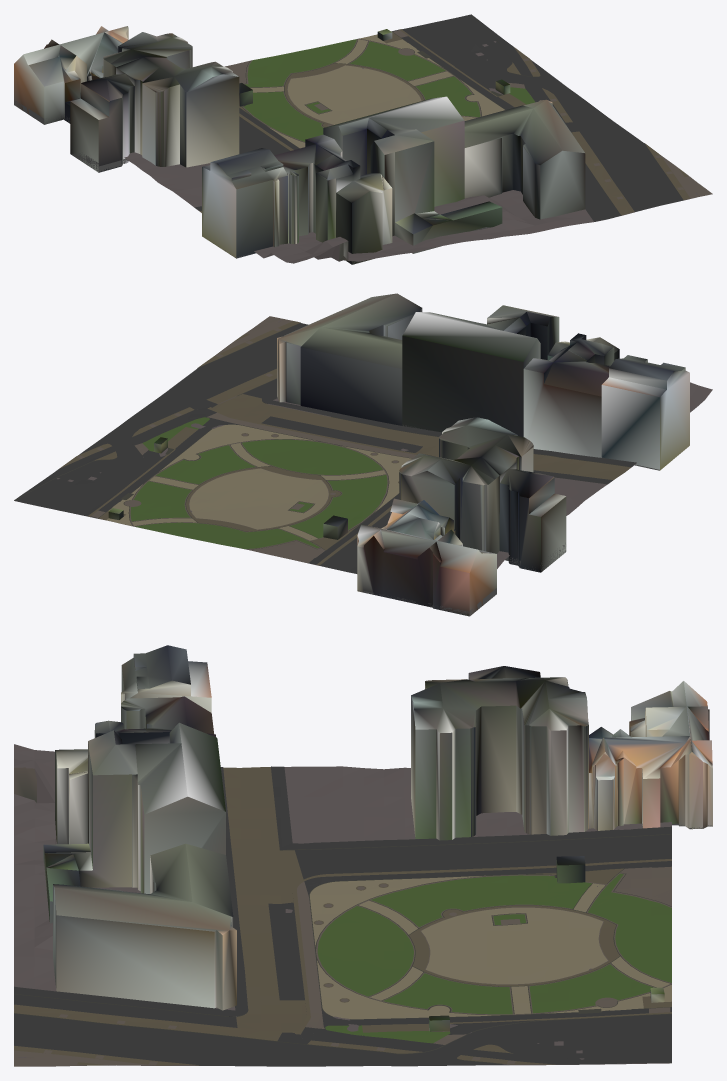
The picture shows the model from 3 angles, top to bottom: view 1: azimuth 30°, elevation 25°; view 2: azimuth 150°, elevation 25°; view 3: azimuth 270°, elevation 25°; orthographic projection. The views are drawn at different scales.
Visible parts, largest first — view 1: c_p03_m04; view 2: c_p03_m04; view 3: c_p03_m04.
Part boxes in pixels (bbox=[...]): c_p03_m04: bbox=[14, 14, 712, 264]; c_p03_m04: bbox=[14, 293, 712, 616]; c_p03_m04: bbox=[14, 645, 712, 1066].
Bounding box in the file's own units: 137 × 29.46 × 136.
